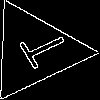T: (9, 26, 71, 75)
